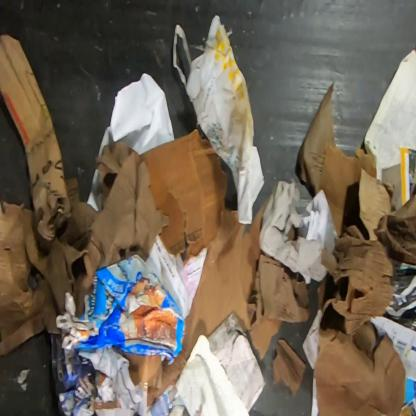cardboard: (0, 34, 170, 356), (122, 129, 271, 406), (313, 139, 415, 415), (56, 255, 193, 366), (249, 252, 310, 360), (272, 338, 306, 397)
